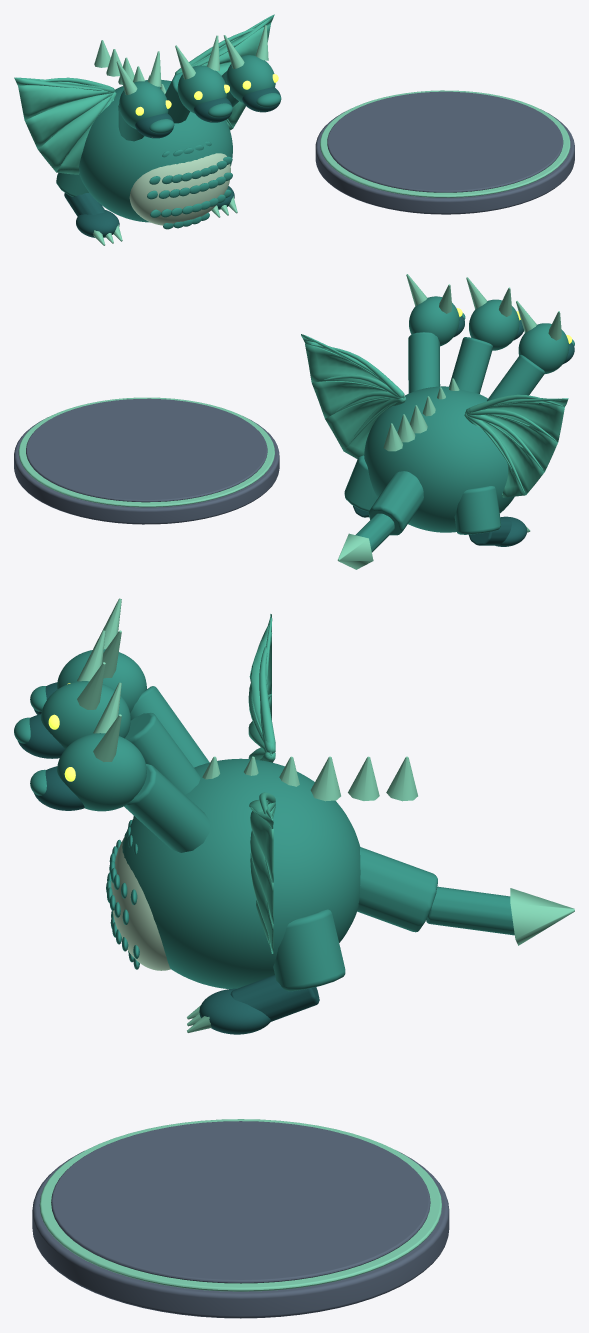
The model's file is vyrm.glb.
3 renders of one model, top to bottom at view 1: azimuth 30°, elevation 25°; view 2: azimuth 150°, elevation 25°; view 3: azimuth 270°, elevation 25°, orthographic. The views are drawn at different scales.
Visible parts, largest first — view 1: Vyrm | top surface, Vyrm | immense body, Vyrm | stone base, Vyrm | armored belly, Vyrm | bronze rim, Vyrm | left frill | curved membrane panel.002, Vyrm | left frill | curved membrane panel.001, Vyrm | left frill | curved membrane panel.003, Vyrm | serpent head.001, Vyrm | serpent head, Vyrm | serpent head.002, Vyrm | rear foot (+13 smaller); view 2: Vyrm | top surface, Vyrm | immense body, Vyrm | stone base, Vyrm | bronze rim, Vyrm | heavy tail, Vyrm | giant haunch, Vyrm | serpent neck.002, Vyrm | serpent head.001, Vyrm | serpent head, Vyrm | serpent neck.001, Vyrm | right frill | curved membrane panel.001, Vyrm | serpent head.002 (+18 smaller); view 3: Vyrm | top surface, Vyrm | immense body, Vyrm | stone base, Vyrm | bronze rim, Vyrm | heavy tail, Vyrm | serpent head.002, Vyrm | giant haunch.001, Vyrm | serpent neck.002, Vyrm | tapering tail, Vyrm | armored belly, Vyrm | serpent head.001, Vyrm | serpent neck.001 (+7 smaller).
Boxes of the visible parts, x1,y1,x2,y2 form: Vyrm | top surface: (327, 91, 563, 192); Vyrm | immense body: (79, 80, 232, 222); Vyrm | stone base: (315, 109, 574, 214); Vyrm | armored belly: (129, 153, 230, 225); Vyrm | bronze rim: (320, 90, 570, 197); Vyrm | left frill | curved membrane panel.002: (25, 93, 109, 149); Vyrm | left frill | curved membrane panel.001: (18, 85, 108, 120); Vyrm | left frill | curved membrane panel.003: (38, 96, 111, 172); Vyrm | serpent head.001: (177, 65, 226, 113); Vyrm | serpent head: (119, 81, 168, 129); Vyrm | serpent head.002: (226, 55, 275, 103); Vyrm | rear foot: (76, 210, 119, 237); Vyrm | top surface: (26, 398, 267, 502); Vyrm | immense body: (364, 386, 514, 532); Vyrm | stone base: (14, 416, 279, 524); Vyrm | bronze rim: (18, 397, 274, 507); Vyrm | heavy tail: (368, 471, 423, 535); Vyrm | giant haunch: (454, 486, 500, 534); Vyrm | serpent neck.002: (408, 332, 440, 393); Vyrm | serpent head.001: (469, 299, 519, 350); Vyrm | serpent head: (518, 323, 568, 373); Vyrm | serpent neck.001: (449, 337, 492, 393); Vyrm | right frill | curved membrane panel.001: (305, 343, 403, 397); Vyrm | serpent head.002: (409, 296, 459, 346); Vyrm | top surface: (51, 1121, 430, 1283); Vyrm | immense body: (122, 758, 360, 988); Vyrm | stone base: (32, 1151, 449, 1318); Vyrm | bronze rim: (39, 1119, 441, 1291); Vyrm | heavy tail: (357, 847, 437, 932); Vyrm | serpent head.002: (57, 733, 146, 811); Vyrm | giant haunch.001: (273, 909, 345, 991); Vyrm | serpent neck.002: (124, 764, 209, 852); Vyrm | tapering tail: (426, 886, 514, 935); Vyrm | armored belly: (111, 837, 170, 970); Vyrm | serpent head.001: (40, 681, 130, 748); Vyrm | serpent neck.001: (125, 712, 200, 794).
Size of the model in its own units: 7.98 by 3.18 by 4.52.
